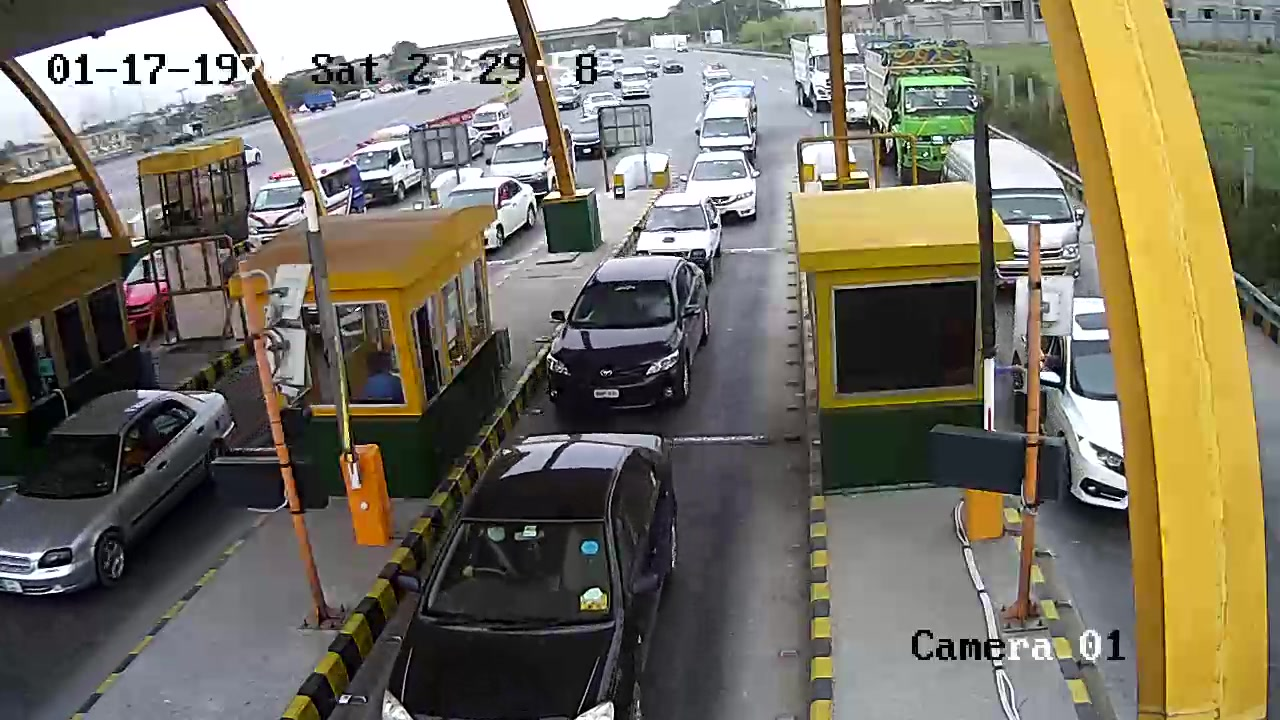F1: (382, 425, 674, 720), (541, 249, 715, 415)
